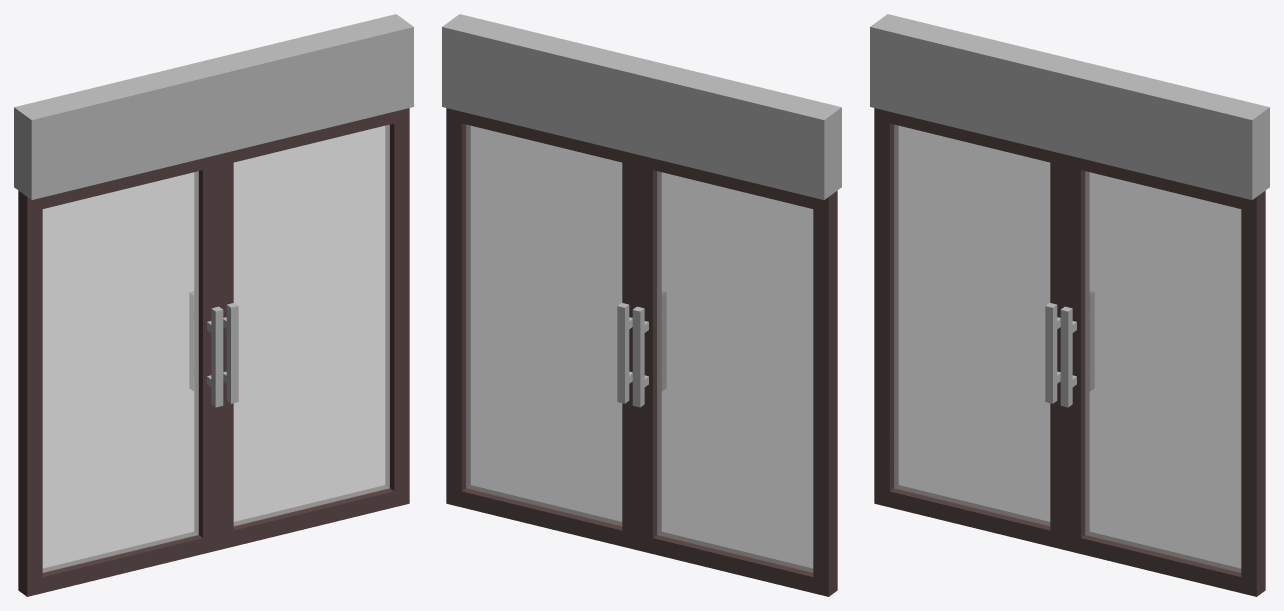
Rendered from Entrance.fbx.
3 views of the same model, side by side, from view 1: azimuth 30°, elevation 25°; view 2: azimuth 150°, elevation 25°; view 3: azimuth 330°, elevation 25° (orthographic).
Parts seen in each view (by area): view 1: Door_Right, Door_Left, Entrance; view 2: Door_Right, Door_Left, Entrance; view 3: Door_Left, Door_Right, Entrance.
Part boxes in pixels (left/top/right/bottom): Door_Right: left=18, top=155, right=223, bottom=596; Door_Left: left=218, top=108, right=409, bottom=550; Entrance: left=14, top=14, right=413, bottom=199; Door_Right: left=632, top=155, right=837, bottom=596; Door_Left: left=446, top=108, right=637, bottom=550; Entrance: left=442, top=14, right=841, bottom=199; Door_Left: left=1060, top=155, right=1265, bottom=596; Door_Right: left=874, top=108, right=1065, bottom=550; Entrance: left=870, top=14, right=1269, bottom=199.
Bounding box in the file's own units: 2.5 × 3 × 0.3.
